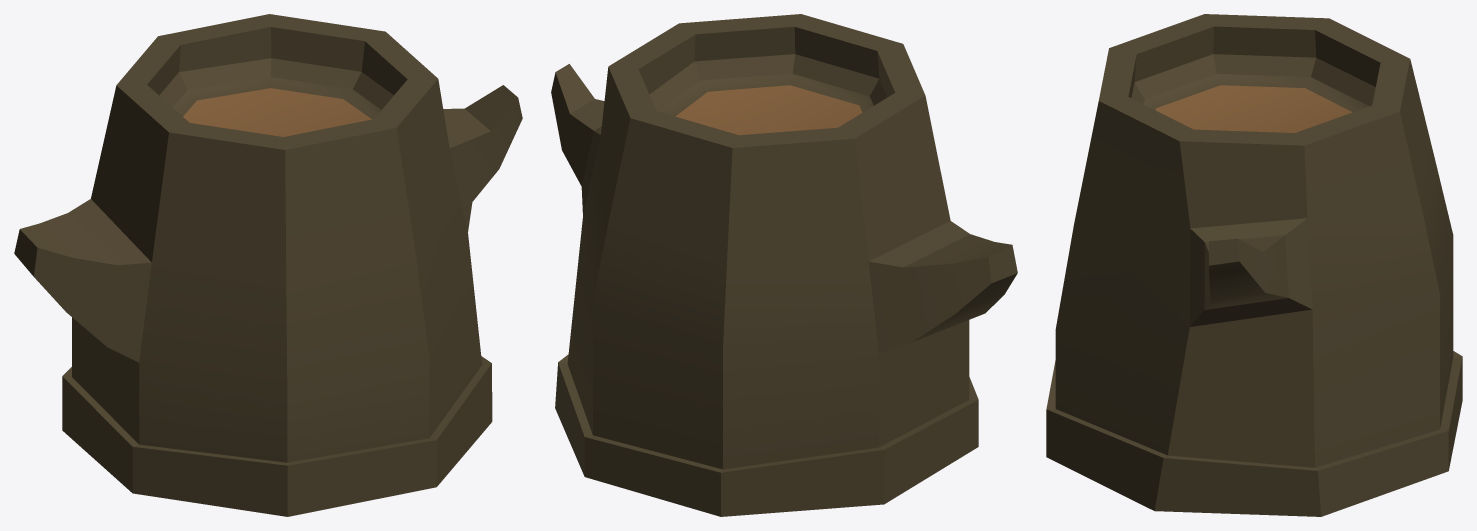
The model's file is stump001.fbx.
3 renders of one model, left to right at view 1: azimuth 30°, elevation 25°; view 2: azimuth 150°, elevation 25°; view 3: azimuth 270°, elevation 25°, orthographic.
Parts seen in each view (by area): view 1: stump_001; view 2: stump_001; view 3: stump_001.
Boxes of the visible parts, <box> form: stump_001: <box>14,14,522,516</box>; stump_001: <box>551,14,1017,516</box>; stump_001: <box>1046,14,1462,516</box>.
Size of the model in its own units: 4.12 by 3.12 by 2.88.
